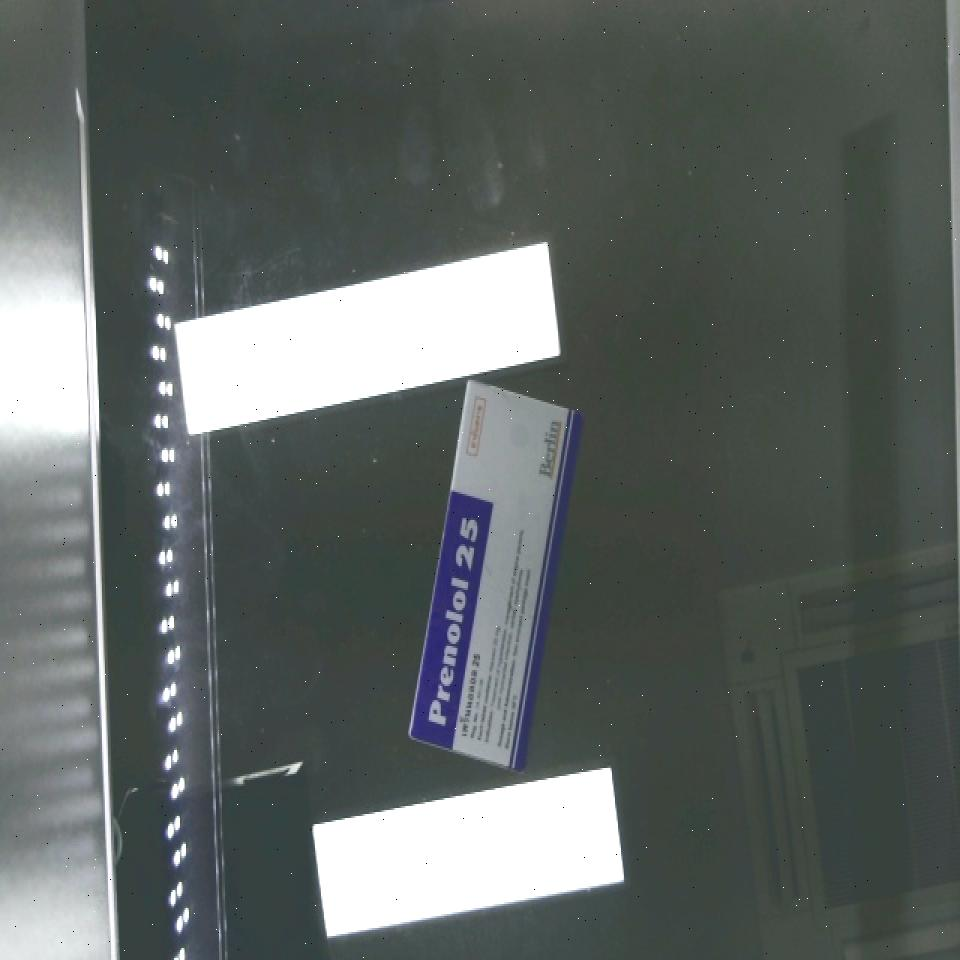medicine_box: (404, 384, 577, 771)
medicine_label_obb: (412, 490, 493, 740)
